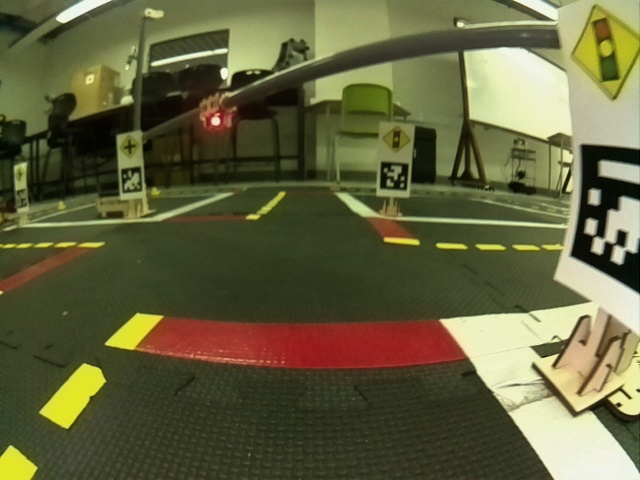aviso semaforo: (564, 2, 640, 108), (380, 121, 413, 158)
linea de pare: (142, 307, 468, 373)
semaforo rojo: (199, 93, 244, 131)
